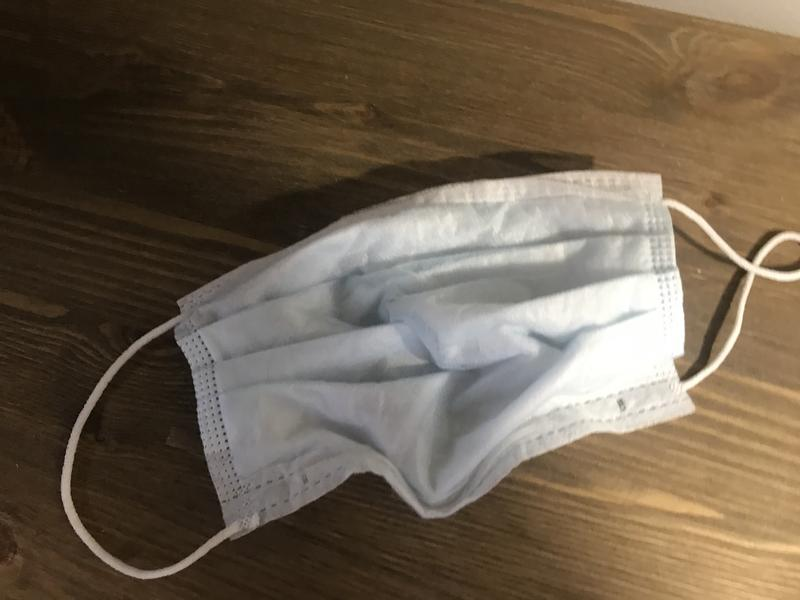medical_mask: (59, 167, 800, 581)
